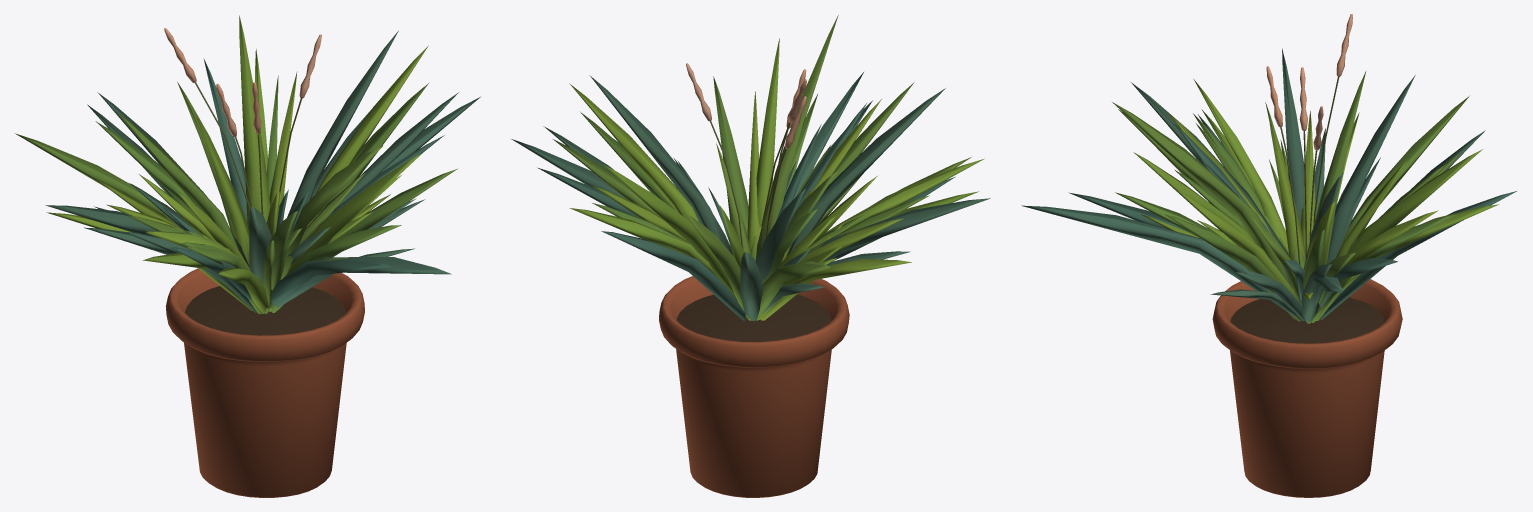
File: pot_grass.glb
3 views of the same model, side by side, from view 1: azimuth 30°, elevation 25°; view 2: azimuth 150°, elevation 25°; view 3: azimuth 270°, elevation 25° (orthographic). The views are drawn at different scales.
Visible parts, largest first — view 1: Sammel Pflanze, Sammel Putz; view 2: Sammel Pflanze, Sammel Putz; view 3: Sammel Pflanze, Sammel Putz.
Part boxes in pixels (<box>): Sammel Pflanze: <box>15,15,480,314</box>; Sammel Putz: <box>165,82,364,497</box>; Sammel Pflanze: <box>511,15,990,321</box>; Sammel Putz: <box>659,121,849,497</box>; Sammel Pflanze: <box>1021,14,1516,323</box>; Sammel Putz: <box>1212,76,1402,497</box>.
Size of the model in its own units: 1.3 by 1.18 by 1.26.
